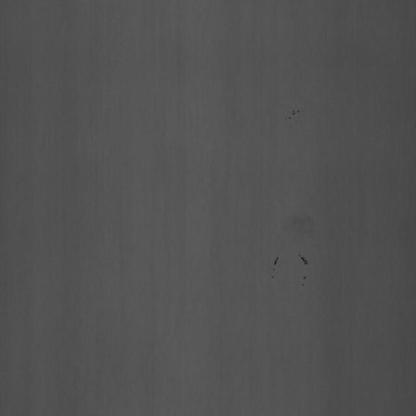inclusion: (273, 91, 309, 128), (299, 236, 314, 278), (270, 242, 282, 290)
